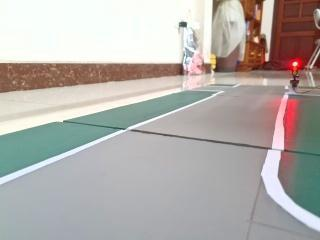red: (283, 55, 305, 90)
